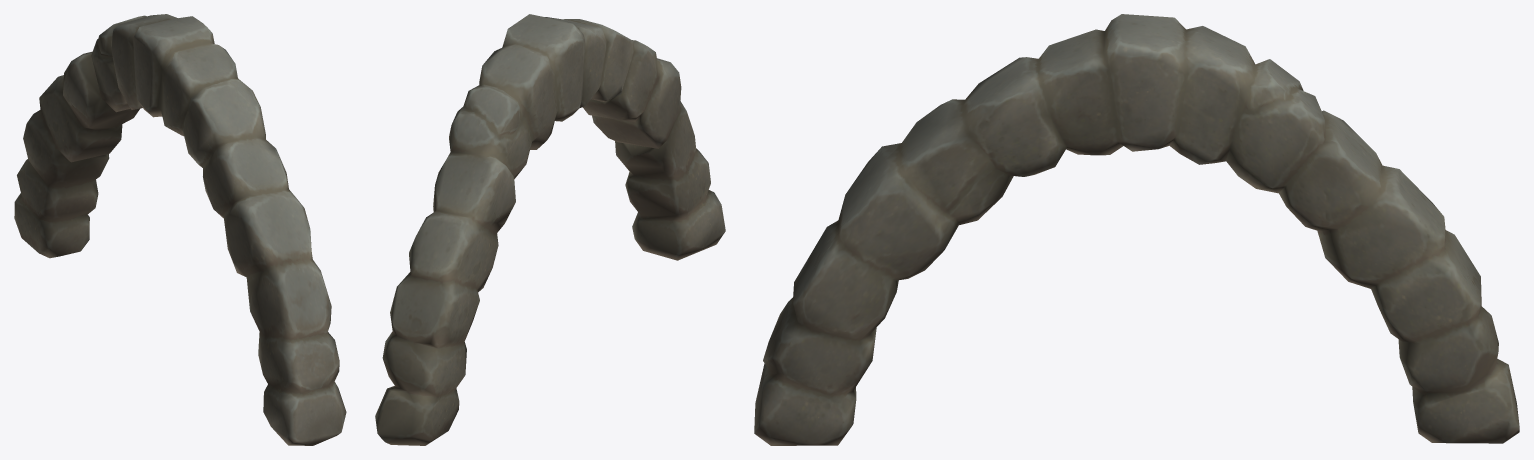
Rendered from SM_FW01_Ruins_Int_Ceiling_6x6_Arch_01.fbx.
3 renders of one model, left to right at view 1: azimuth 30°, elevation 25°; view 2: azimuth 150°, elevation 25°; view 3: azimuth 270°, elevation 25°, orthographic. The views are drawn at different scales.
Parts seen in each view (by area): view 1: SM_FW01_Ruins_Int_Ceiling_6x6_Arch_01_LOD0; view 2: SM_FW01_Ruins_Int_Ceiling_6x6_Arch_01_LOD0; view 3: SM_FW01_Ruins_Int_Ceiling_6x6_Arch_01_LOD0.
Part boxes in pixels (bbox=[...]): SM_FW01_Ruins_Int_Ceiling_6x6_Arch_01_LOD0: bbox=[14, 14, 346, 445]; SM_FW01_Ruins_Int_Ceiling_6x6_Arch_01_LOD0: bbox=[375, 14, 725, 445]; SM_FW01_Ruins_Int_Ceiling_6x6_Arch_01_LOD0: bbox=[754, 14, 1519, 445].
Size of what is drawn, in the model's own units: 0.7599 by 3.44 by 5.88.
